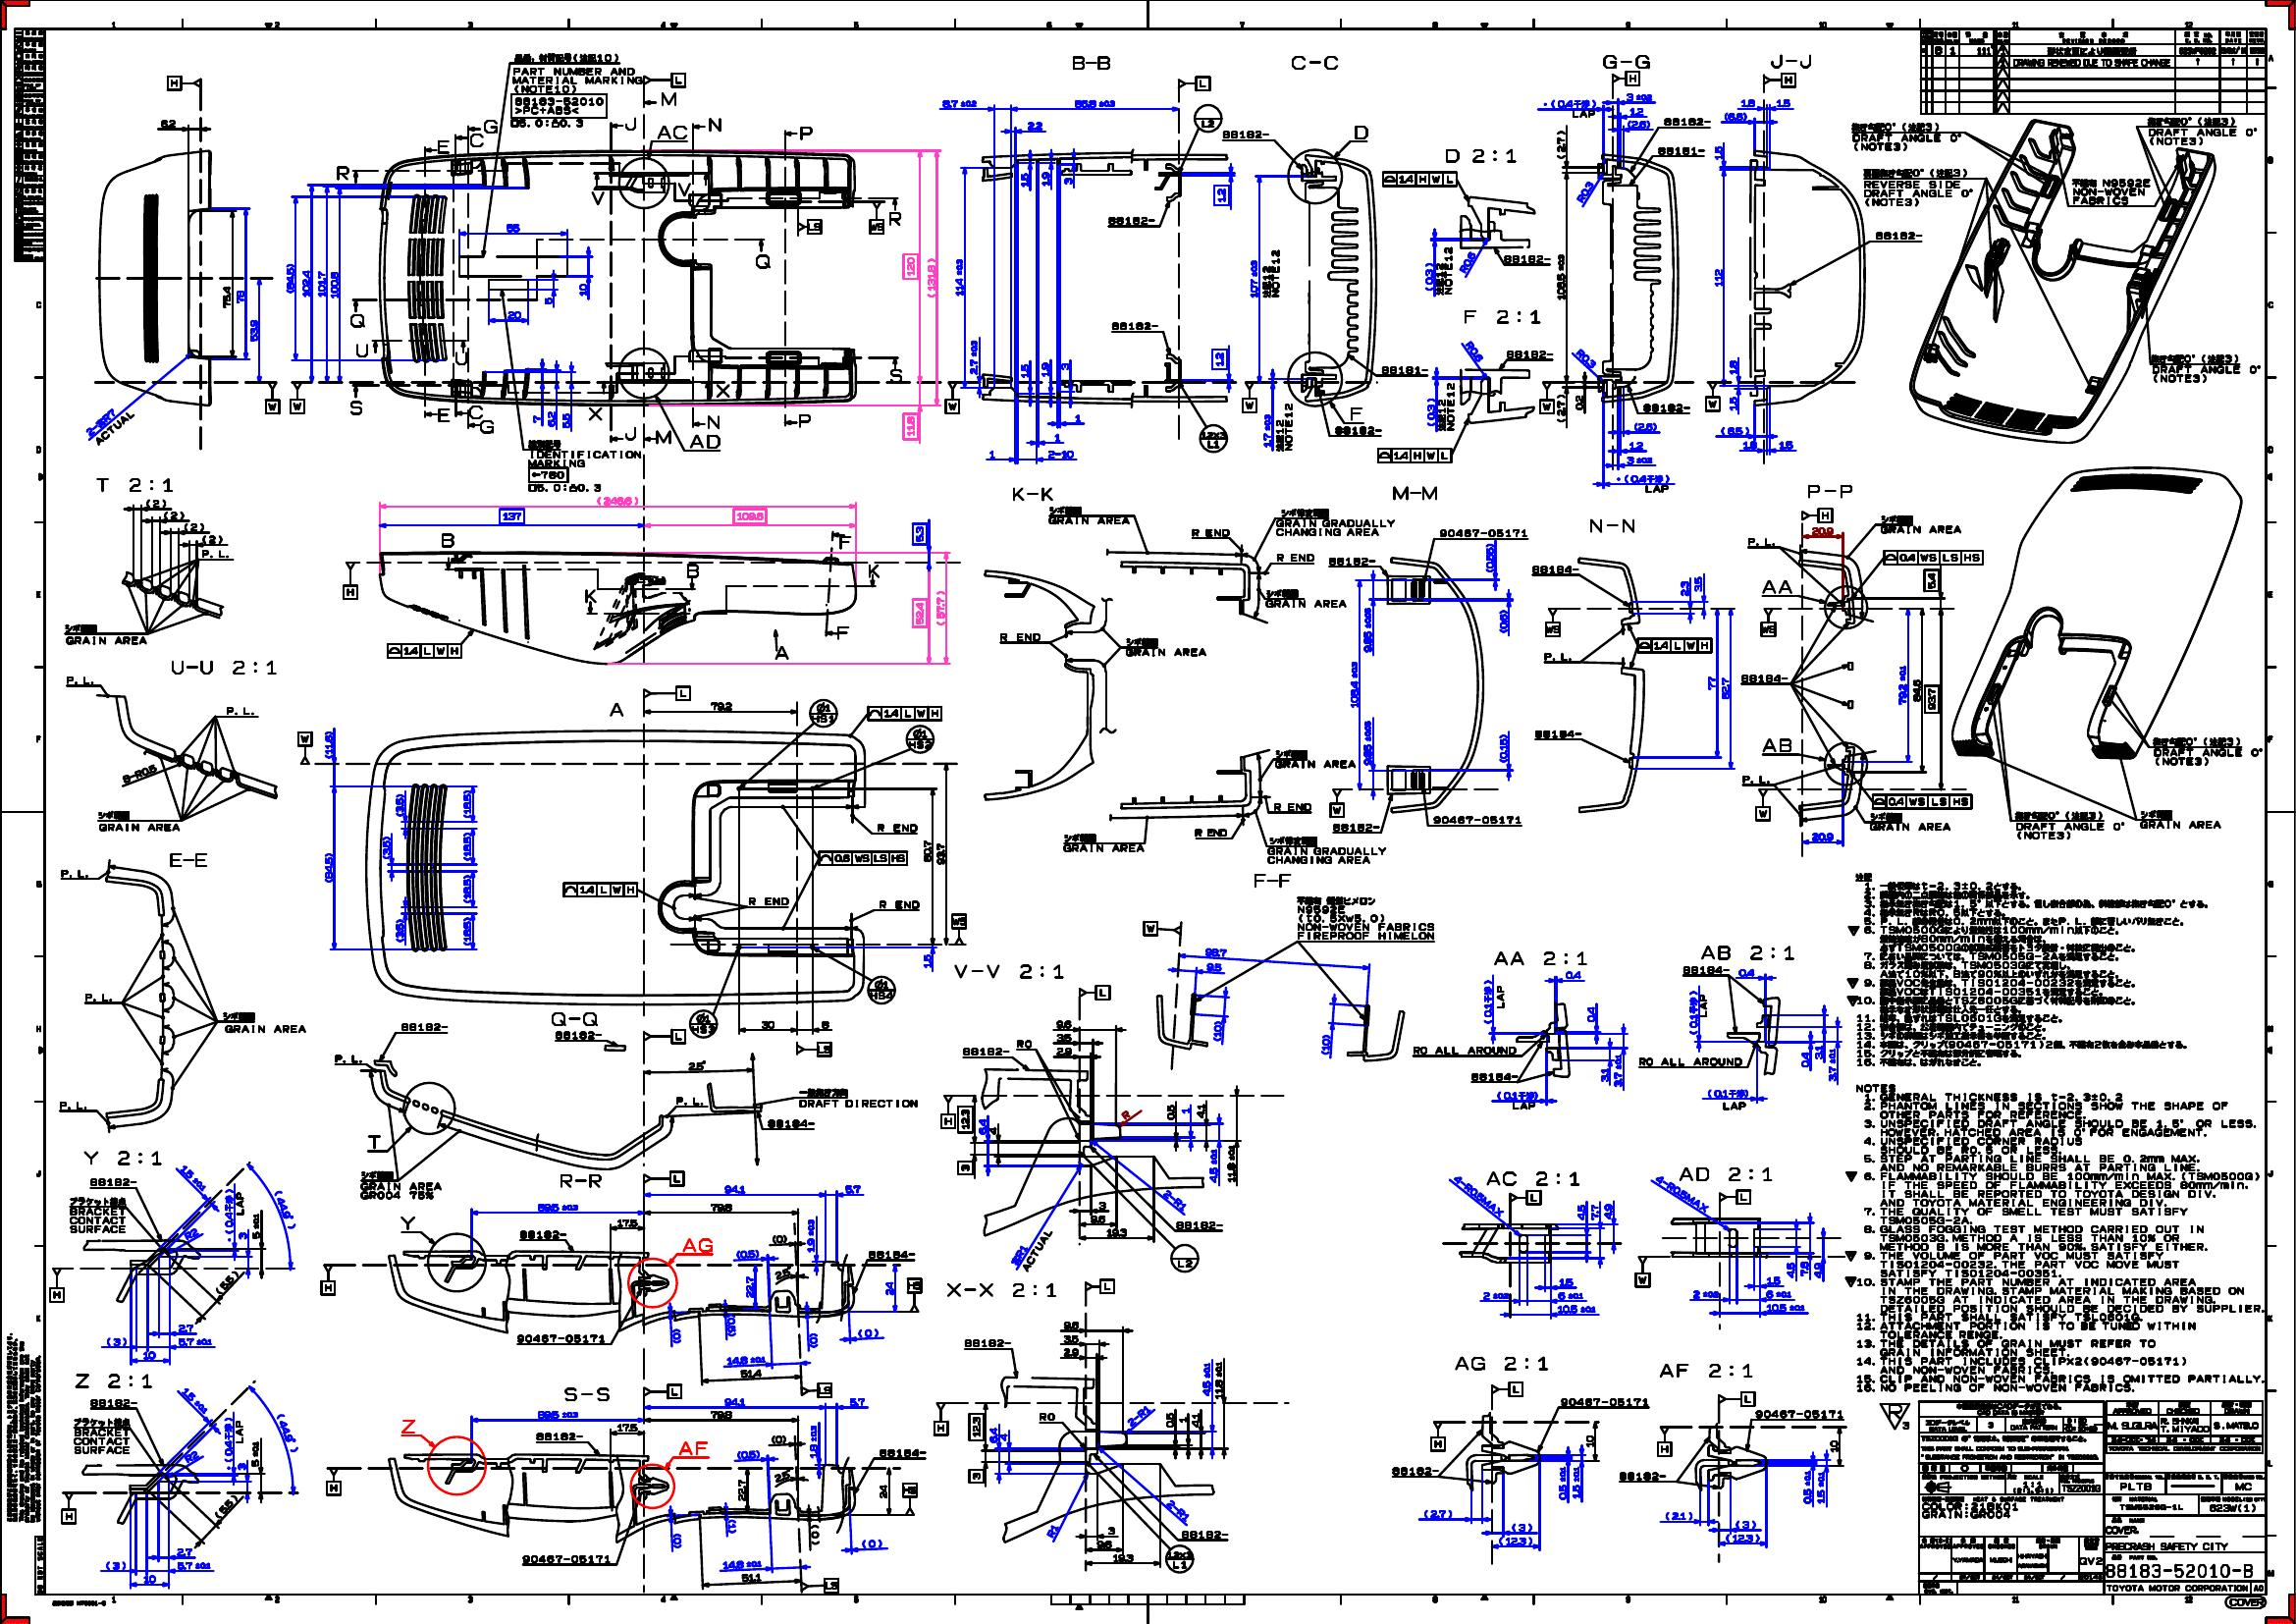anntotation_text: (1845, 1081, 2266, 1392), (1846, 870, 2208, 1069), (509, 53, 641, 130), (4, 1332, 40, 1524), (1295, 893, 1433, 940), (527, 439, 641, 492), (1862, 167, 1973, 207), (1265, 835, 1388, 866), (2150, 735, 2264, 768), (1275, 508, 1397, 538), (1850, 121, 1964, 153), (2015, 810, 2127, 842), (2147, 116, 2259, 146), (2150, 353, 2261, 381), (798, 1086, 917, 1109), (360, 1169, 443, 1200), (2069, 174, 2150, 206), (72, 1413, 130, 1455), (69, 1195, 126, 1236), (950, 961, 1065, 981), (947, 1280, 1056, 1299), (1657, 1360, 1755, 1381), (97, 808, 179, 833), (169, 659, 279, 677), (221, 1011, 306, 1033), (1274, 749, 1358, 772), (1699, 942, 1797, 961), (1453, 1353, 1548, 1373), (74, 1369, 153, 1392), (1265, 587, 1349, 608), (1124, 634, 1209, 656), (63, 624, 148, 645), (1883, 548, 1983, 566), (1063, 833, 1145, 854), (1869, 812, 1950, 833), (1880, 513, 1960, 534), (1484, 1169, 1581, 1186), (1493, 949, 1588, 967), (2140, 808, 2222, 828), (81, 1149, 163, 1169), (1047, 506, 1130, 526), (1873, 793, 1973, 808), (817, 849, 906, 866), (1678, 1165, 1773, 1181), (1635, 636, 1713, 654), (95, 476, 172, 494), (1381, 170, 1456, 188), (866, 705, 942, 722), (562, 881, 638, 898), (1460, 309, 1542, 325), (1412, 1044, 1516, 1056), (223, 1186, 246, 1241), (83, 411, 137, 434), (1446, 148, 1516, 165), (386, 642, 462, 657), (223, 1413, 244, 1469), (1541, 98, 1595, 120), (515, 1332, 606, 1345), (1007, 1236, 1056, 1258), (1558, 1396, 1650, 1408), (1637, 1056, 1743, 1067), (1432, 814, 1521, 826), (1261, 248, 1282, 299), (1375, 448, 1451, 462), (1483, 979, 1505, 1025), (1616, 475, 1669, 494), (1706, 1088, 1750, 1111), (1880, 1403, 1913, 1432), (520, 1552, 611, 1562), (1755, 1410, 1846, 1420), (1686, 990, 1708, 1035), (1275, 399, 1293, 453), (1390, 483, 1439, 503), (1439, 527, 1528, 538), (1198, 422, 1228, 453), (1168, 1243, 1198, 1274), (1600, 53, 1651, 70), (550, 1011, 601, 1028), (1289, 54, 1340, 72), (905, 724, 935, 754), (864, 975, 896, 1004), (1493, 1090, 1539, 1109), (562, 1385, 611, 1403), (1439, 381, 1456, 431), (1435, 246, 1453, 295), (808, 698, 838, 726), (557, 1171, 604, 1188), (1648, 1186, 1715, 1199), (689, 1009, 717, 1037), (1193, 104, 1223, 130), (641, 685, 690, 701), (1769, 53, 1813, 70), (1806, 483, 1853, 499), (1588, 517, 1635, 533), (1144, 919, 1182, 939), (1165, 1545, 1193, 1571), (1070, 54, 1112, 72), (641, 72, 687, 88), (641, 1028, 687, 1044), (1446, 1190, 1513, 1200), (2224, 1594, 2268, 1610), (167, 852, 209, 868), (1470, 1069, 1518, 1083), (341, 562, 358, 599), (1010, 487, 1056, 501), (643, 1171, 683, 1186), (1179, 1529, 1230, 1541), (88, 1396, 139, 1408), (643, 1383, 682, 1399), (799, 1578, 838, 1594), (1253, 872, 1291, 888), (1657, 144, 1706, 156), (1534, 728, 1583, 740), (555, 1028, 604, 1040), (1332, 821, 1381, 833), (682, 1236, 715, 1253), (655, 125, 689, 142), (1490, 1380, 1523, 1397), (1874, 228, 1922, 241), (90, 1176, 137, 1188), (1718, 1390, 1755, 1406), (906, 1276, 922, 1311), (167, 76, 202, 91), (689, 434, 720, 452), (796, 1040, 831, 1056), (1511, 1188, 1542, 1206), (1275, 550, 1314, 564), (516, 1229, 567, 1239), (1221, 128, 1272, 139), (1616, 1469, 1667, 1480), (1764, 72, 1797, 88), (1760, 578, 1794, 594), (933, 1403, 949, 1436), (1179, 74, 1212, 90), (940, 1095, 956, 1128), (1662, 116, 1711, 127), (1641, 402, 1690, 413), (1326, 555, 1375, 566), (766, 1118, 815, 1128), (878, 1446, 928, 1457), (963, 1336, 1012, 1346), (49, 1267, 63, 1304), (1107, 214, 1156, 225), (875, 821, 917, 833), (878, 896, 921, 909), (1681, 965, 1730, 975), (35, 1536, 44, 1594), (1539, 381, 1555, 413), (1741, 673, 1788, 684), (1532, 564, 1579, 575), (320, 1264, 336, 1295), (801, 1381, 833, 1397), (536, 1431, 583, 1441), (903, 1483, 919, 1515), (290, 381, 306, 413), (1335, 424, 1383, 434), (1505, 348, 1553, 359), (1504, 253, 1551, 264), (1175, 1220, 1223, 1230), (963, 1046, 1010, 1056), (1080, 984, 1112, 1000), (1391, 1466, 1439, 1476), (1634, 1255, 1650, 1287), (870, 200, 884, 236), (121, 766, 156, 780), (1191, 826, 1230, 838), (1704, 381, 1720, 411), (1755, 789, 1771, 819), (1544, 608, 1560, 638), (678, 1439, 708, 1455), (1086, 1278, 1116, 1294), (1240, 381, 1256, 411), (1330, 787, 1346, 817), (950, 914, 966, 944), (1430, 1420, 1446, 1450), (265, 381, 279, 415), (945, 380, 959, 413), (297, 731, 311, 765), (1760, 606, 1774, 638), (1801, 508, 1832, 522), (673, 1093, 704, 1107), (325, 1468, 341, 1496), (1272, 801, 1314, 812), (1189, 527, 1231, 538), (747, 896, 789, 907), (1718, 1190, 1750, 1204), (1110, 322, 1159, 330), (1381, 366, 1430, 374), (1762, 738, 1792, 752), (61, 1492, 76, 1522), (1613, 70, 1639, 86), (401, 1023, 448, 1032), (868, 1250, 915, 1258), (1541, 650, 1574, 663), (1658, 1425, 1671, 1459), (998, 633, 1043, 642), (332, 1053, 364, 1065), (796, 218, 820, 234), (51, 1599, 105, 1606), (675, 181, 694, 199), (1741, 773, 1773, 784), (225, 705, 256, 715), (58, 868, 90, 879), (1746, 536, 1776, 547), (83, 991, 112, 1002), (58, 1100, 88, 1111), (65, 675, 95, 685), (200, 548, 230, 559), (399, 1214, 416, 1232), (478, 417, 495, 434), (451, 350, 469, 367), (587, 404, 604, 422), (346, 399, 364, 417), (353, 341, 371, 359), (348, 313, 365, 330), (336, 163, 353, 181), (434, 139, 451, 156), (481, 120, 499, 137), (659, 90, 676, 107), (706, 116, 724, 134), (796, 125, 813, 142), (887, 209, 905, 227), (704, 413, 722, 431), (713, 383, 731, 401), (794, 413, 812, 431), (887, 366, 905, 383), (588, 190, 606, 207), (864, 562, 882, 580), (773, 643, 791, 661), (683, 561, 701, 578), (581, 587, 599, 605), (437, 531, 455, 548), (399, 1418, 415, 1436), (436, 406, 451, 424), (467, 404, 483, 422), (622, 424, 638, 441), (655, 427, 671, 445), (467, 132, 483, 149), (624, 114, 639, 132), (755, 253, 771, 271), (1353, 123, 1370, 139), (836, 533, 852, 550), (836, 622, 852, 640), (608, 701, 624, 719), (365, 1134, 381, 1149), (1349, 406, 1363, 422)
dimension_text: (1555, 253, 1567, 299), (731, 508, 766, 524), (968, 1413, 986, 1441), (926, 257, 936, 299), (596, 496, 638, 506), (176, 1171, 211, 1183), (1349, 659, 1358, 708), (281, 1413, 292, 1454), (1556, 1302, 1597, 1313), (954, 257, 964, 297), (1226, 1142, 1237, 1183), (1897, 664, 1908, 705), (957, 1106, 973, 1132), (497, 508, 523, 524), (1363, 719, 1372, 766), (1924, 685, 1939, 712), (279, 1190, 290, 1229), (1363, 606, 1372, 652), (912, 599, 926, 627), (935, 589, 945, 626), (1073, 98, 1117, 107), (177, 1394, 213, 1404), (536, 1410, 578, 1418), (805, 1218, 815, 1253), (1802, 1469, 1813, 1504), (968, 339, 978, 374), (942, 98, 977, 109), (903, 413, 917, 439), (176, 1561, 211, 1571), (538, 1202, 580, 1211), (912, 524, 929, 545), (722, 1561, 762, 1570), (1765, 1302, 1806, 1311), (808, 1425, 819, 1459), (1718, 425, 1751, 436), (213, 1276, 241, 1288), (903, 255, 917, 279), (727, 1355, 766, 1364), (1249, 258, 1258, 297), (1214, 1360, 1223, 1399), (1555, 128, 1565, 160), (1214, 185, 1230, 206), (1497, 1536, 1534, 1545), (1558, 1464, 1567, 1501), (1209, 1146, 1217, 1183), (462, 789, 473, 819), (211, 1501, 241, 1512), (1159, 1195, 1189, 1206), (1572, 1464, 1581, 1499), (1725, 1534, 1760, 1543), (1827, 1048, 1836, 1083), (1203, 1360, 1212, 1396), (1556, 1290, 1585, 1301), (1426, 397, 1437, 425), (1047, 448, 1075, 459), (329, 271, 339, 299), (300, 269, 311, 297), (1163, 1504, 1191, 1515), (1124, 1410, 1152, 1420), (1924, 569, 1938, 591), (1816, 1471, 1825, 1504), (1614, 1053, 1623, 1086), (1263, 413, 1272, 446), (1203, 946, 1226, 958), (1765, 1288, 1792, 1299), (1483, 1290, 1509, 1301), (316, 271, 327, 297), (1809, 831, 1836, 842), (1632, 422, 1658, 432), (1212, 348, 1226, 367), (1664, 1512, 1693, 1520), (462, 874, 471, 903), (462, 831, 471, 861), (323, 852, 332, 882), (323, 729, 332, 759), (1498, 733, 1507, 763), (1484, 543, 1493, 573), (1556, 394, 1565, 424), (249, 1441, 260, 1466), (1462, 346, 1486, 357), (1911, 677, 1922, 701), (1723, 111, 1748, 121), (1574, 353, 1599, 364), (177, 1338, 213, 1345), (1625, 93, 1653, 102), (286, 264, 295, 292), (1423, 1510, 1451, 1519), (724, 1397, 747, 1408), (740, 1571, 762, 1582), (724, 1183, 747, 1193), (1112, 1552, 1135, 1562), (1720, 677, 1730, 700), (1063, 1346, 1082, 1359), (1692, 1290, 1718, 1299), (462, 917, 471, 944), (1625, 455, 1651, 464), (617, 1422, 638, 1432), (810, 1524, 820, 1545), (861, 1538, 882, 1548), (857, 1327, 878, 1338), (1736, 1519, 1757, 1529), (1105, 1227, 1126, 1237), (105, 1561, 126, 1571), (968, 1469, 984, 1483), (957, 1160, 973, 1174), (163, 510, 184, 520), (183, 522, 204, 533), (251, 1213, 260, 1237), (736, 1450, 761, 1459), (736, 1250, 761, 1258), (745, 1274, 754, 1299), (1509, 1522, 1534, 1531), (1205, 960, 1223, 972), (936, 840, 945, 865), (395, 917, 404, 942), (381, 835, 390, 859), (1572, 188, 1597, 197), (1455, 257, 1479, 265), (1498, 608, 1507, 633), (1425, 262, 1432, 292), (176, 1322, 195, 1332), (671, 1531, 682, 1550), (773, 1267, 792, 1278), (687, 1060, 706, 1070), (1212, 1019, 1221, 1042), (105, 1336, 128, 1345), (710, 1410, 733, 1418), (736, 1478, 745, 1501), (740, 1369, 762, 1378), (727, 1313, 736, 1336), (395, 793, 404, 816), (1627, 120, 1650, 128), (710, 1202, 733, 1211), (615, 1218, 638, 1227), (708, 701, 731, 710), (1811, 526, 1834, 534), (221, 286, 230, 309), (845, 1183, 861, 1195), (1727, 395, 1739, 411), (773, 1469, 791, 1480), (847, 1396, 864, 1406), (1602, 1202, 1613, 1220), (1321, 1033, 1330, 1055), (922, 840, 931, 861), (1038, 1411, 1056, 1422), (977, 1118, 987, 1135), (1015, 1037, 1033, 1048), (1056, 1046, 1073, 1056), (202, 534, 223, 543), (1679, 580, 1690, 598), (146, 499, 165, 508), (1715, 267, 1723, 286), (506, 221, 522, 232), (671, 1327, 682, 1343), (884, 1280, 894, 1295), (1785, 1262, 1795, 1278), (1565, 968, 1581, 979), (1813, 1044, 1823, 1060), (1189, 1413, 1200, 1429), (1778, 439, 1794, 450), (1727, 359, 1737, 374), (1739, 98, 1755, 109), (1576, 1202, 1585, 1220), (1590, 1202, 1599, 1220), (1586, 1005, 1595, 1023), (1737, 967, 1755, 975), (1026, 121, 1043, 130), (546, 410, 555, 427), (562, 411, 571, 429), (176, 1547, 193, 1555), (989, 1425, 998, 1443), (1165, 1102, 1173, 1120), (1196, 1102, 1205, 1120), (1693, 575, 1702, 592), (249, 320, 256, 341), (761, 1018, 775, 1028), (1776, 97, 1790, 107), (183, 1452, 199, 1461), (183, 1230, 199, 1239), (771, 1434, 787, 1443), (878, 1483, 887, 1499), (771, 1234, 787, 1243), (1829, 1438, 1838, 1454), (1765, 1276, 1781, 1285), (1799, 1260, 1808, 1276), (1813, 1262, 1822, 1278), (1558, 1278, 1574, 1287), (1600, 1067, 1609, 1083), (1801, 1051, 1809, 1067), (1040, 362, 1049, 378), (1021, 172, 1029, 188), (1040, 170, 1049, 186), (506, 309, 522, 318), (1063, 1334, 1079, 1343), (1063, 1320, 1079, 1329), (1165, 1411, 1173, 1427), (1089, 1214, 1105, 1223), (1056, 1019, 1072, 1028), (1627, 441, 1643, 450), (1574, 395, 1583, 411), (727, 1519, 736, 1533), (1585, 1434, 1593, 1448), (922, 953, 931, 967), (1021, 364, 1029, 378), (1096, 1541, 1114, 1548), (1045, 1527, 1059, 1536), (1743, 441, 1757, 450), (1713, 146, 1722, 160), (235, 290, 244, 304), (810, 1332, 817, 1348), (1056, 1033, 1072, 1040), (1708, 675, 1715, 691), (160, 120, 176, 127), (144, 1350, 156, 1359), (1630, 105, 1643, 114), (578, 283, 587, 295), (144, 1575, 156, 1584), (820, 1019, 831, 1028), (1107, 1526, 1116, 1536), (1121, 1109, 1131, 1118), (1098, 1200, 1107, 1211), (989, 1125, 998, 1135), (1182, 1106, 1189, 1118), (987, 450, 996, 459), (1061, 362, 1070, 371), (1063, 178, 1072, 186), (545, 297, 553, 306), (1000, 1432, 1008, 1441), (1179, 1415, 1188, 1424), (237, 1232, 248, 1239), (1072, 415, 1082, 422), (1054, 432, 1061, 443), (237, 1462, 246, 1469), (532, 415, 539, 424)
object: (362, 726, 866, 1009), (378, 148, 859, 406), (1906, 116, 2219, 445), (1948, 462, 2245, 761), (984, 548, 1265, 819), (980, 148, 1230, 408), (376, 548, 857, 668), (362, 1055, 764, 1171), (388, 1450, 859, 1543), (386, 1248, 857, 1338), (978, 1065, 1205, 1237), (1000, 1374, 1216, 1543), (1746, 148, 1867, 408), (97, 146, 213, 408), (1383, 555, 1486, 816), (1599, 149, 1683, 404), (1298, 149, 1379, 404), (104, 863, 177, 1128), (1797, 545, 1866, 824), (1576, 554, 1648, 814), (109, 692, 279, 800), (1458, 193, 1535, 424), (1154, 991, 1407, 1062), (81, 1237, 204, 1306), (81, 1462, 202, 1526), (1467, 1410, 1541, 1494), (121, 571, 225, 620), (1693, 1427, 1767, 1494), (1725, 995, 1781, 1076), (1516, 1000, 1572, 1077), (1669, 1216, 1769, 1258), (1458, 1223, 1563, 1262)
title_block: (1917, 1399, 2266, 1594), (1918, 28, 2266, 116), (12, 28, 46, 262)
